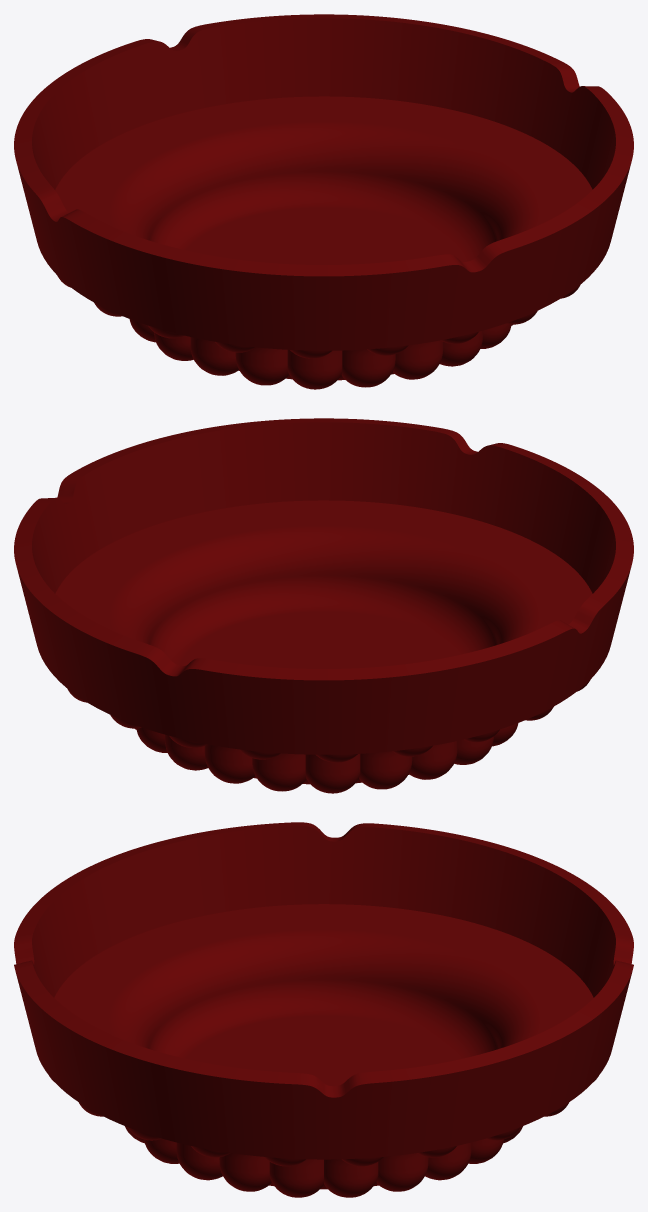
3 views of the same model, one above another, from view 1: azimuth 30°, elevation 25°; view 2: azimuth 150°, elevation 25°; view 3: azimuth 270°, elevation 25° (orthographic).
Size of the model in its own units: 0.1008 by 0.0307 by 0.1006.
